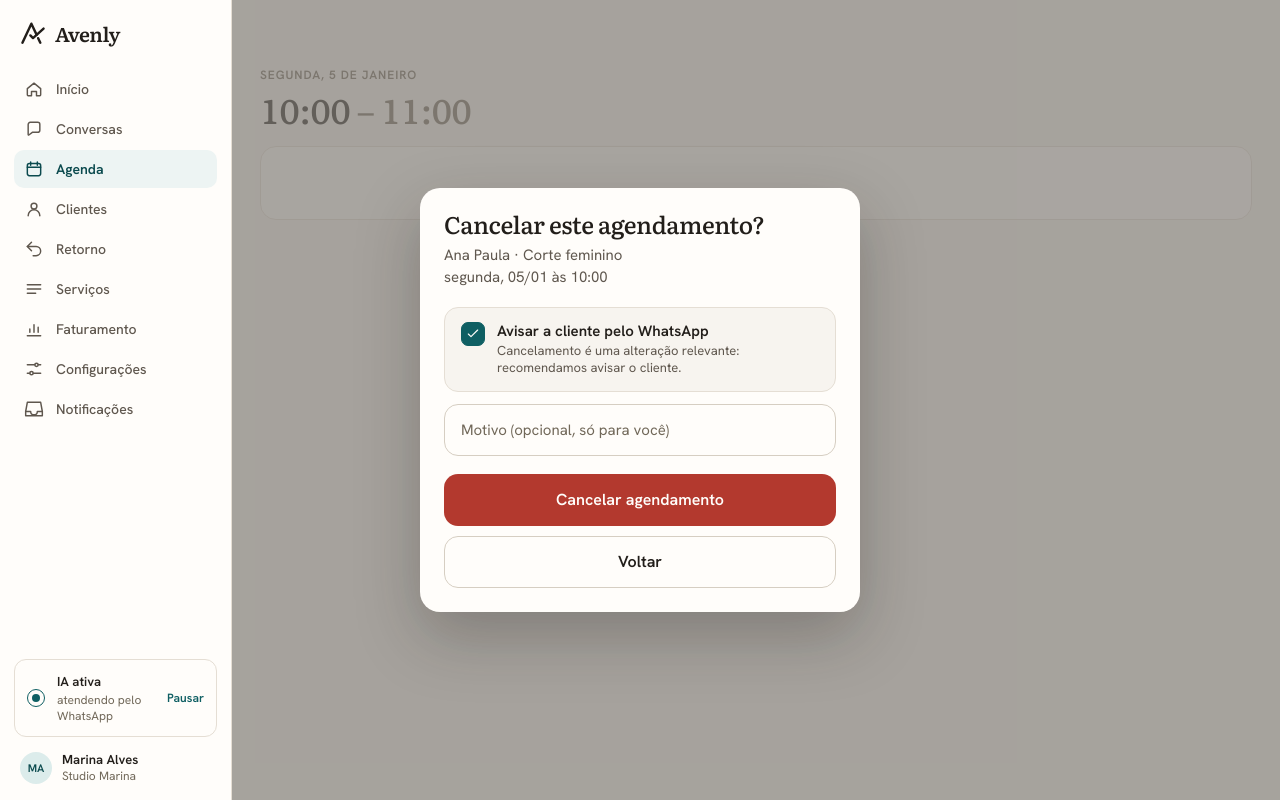
Scenario: Goal112 A8 (cancelar): o campo é o mesmo nó ao cruzar 1024 px › 390→1280: mesmo nó, mesmo valor e com foco
In the field labelled "Motivo (opcional, só para você)": [640, 430] box x1=444 y1=404 x2=836 y2=456, type "Cliente viajou"
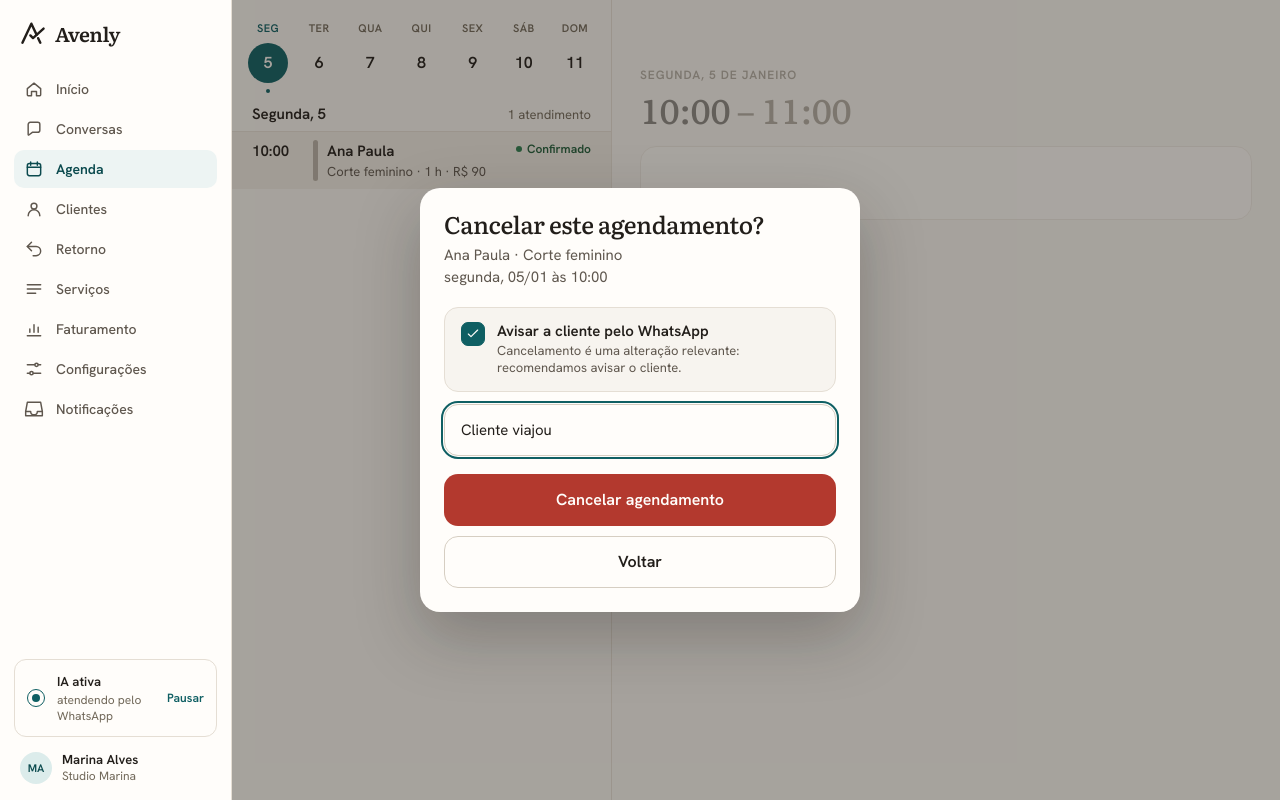
Now the element with class "agenda-appt-split" is shown
Now the element with class "list-detail-list" is shown, box x1=232 y1=0 x2=612 y2=799
